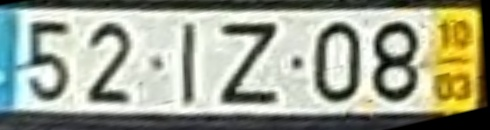0: (316, 20, 365, 106)
2: (84, 19, 136, 105)
5: (26, 21, 73, 104)
8: (372, 18, 423, 105)
I: (180, 21, 202, 106)
Z: (216, 20, 281, 106)
